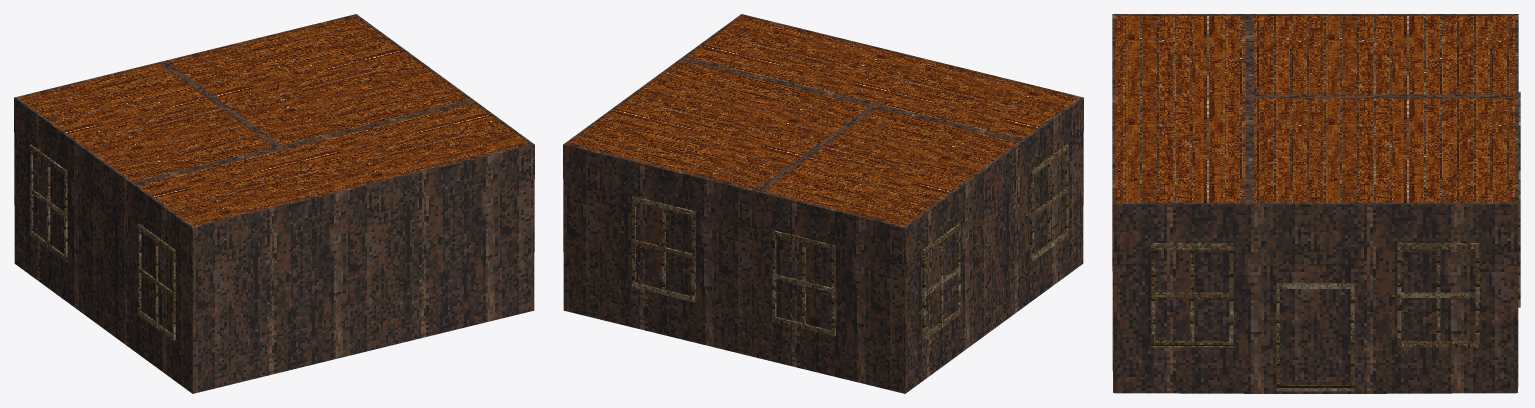
The model's file is House_Interior.glb.
3 views of the same model, side by side, from view 1: azimuth 30°, elevation 25°; view 2: azimuth 150°, elevation 25°; view 3: azimuth 270°, elevation 25° (orthographic). The views are drawn at different scales.
Parts seen in each view (by area): view 1: House Base.001; view 2: House Base.001; view 3: House Base.001.
Boxes of the visible parts, x1,y1,x2,y2 form: House Base.001: [14, 14, 534, 393]; House Base.001: [563, 14, 1083, 393]; House Base.001: [1112, 14, 1520, 393].
Bounding box in the file's own units: 10.26 × 4.72 × 9.21.
21 materials, 20 textured.
